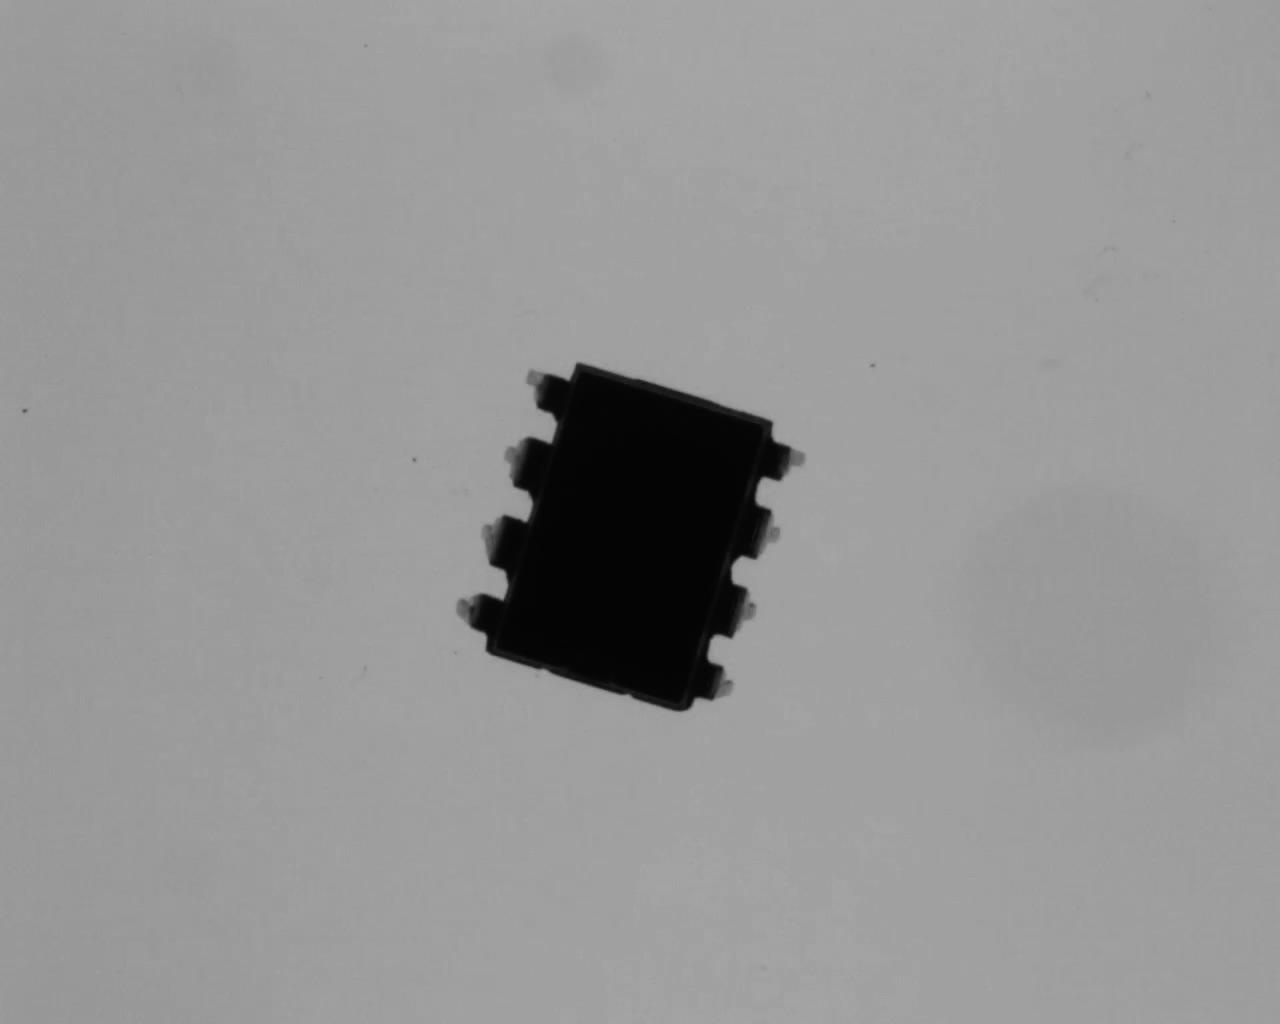Leg: (446, 584, 509, 646), (495, 432, 555, 495), (472, 510, 528, 571), (520, 370, 576, 421), (762, 437, 809, 489), (748, 506, 790, 564), (723, 576, 762, 635), (696, 660, 742, 708)
